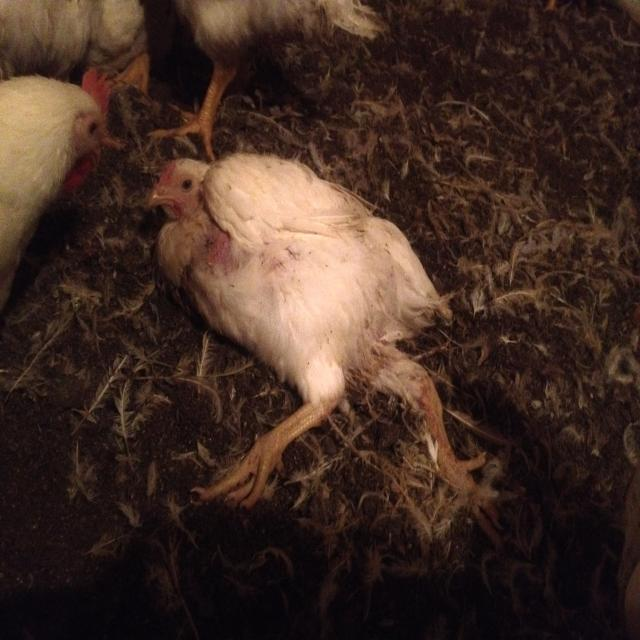Unhealthy: (142, 152, 495, 529)
